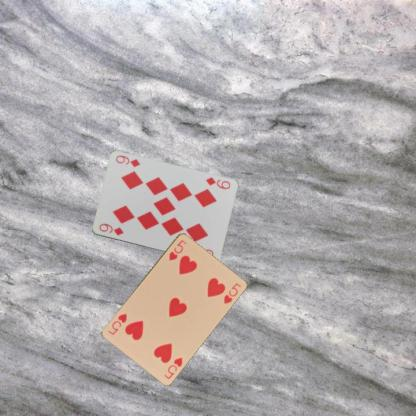5h: (166, 237, 188, 262), (162, 354, 184, 379)
9d: (203, 174, 231, 190), (97, 221, 124, 237)
